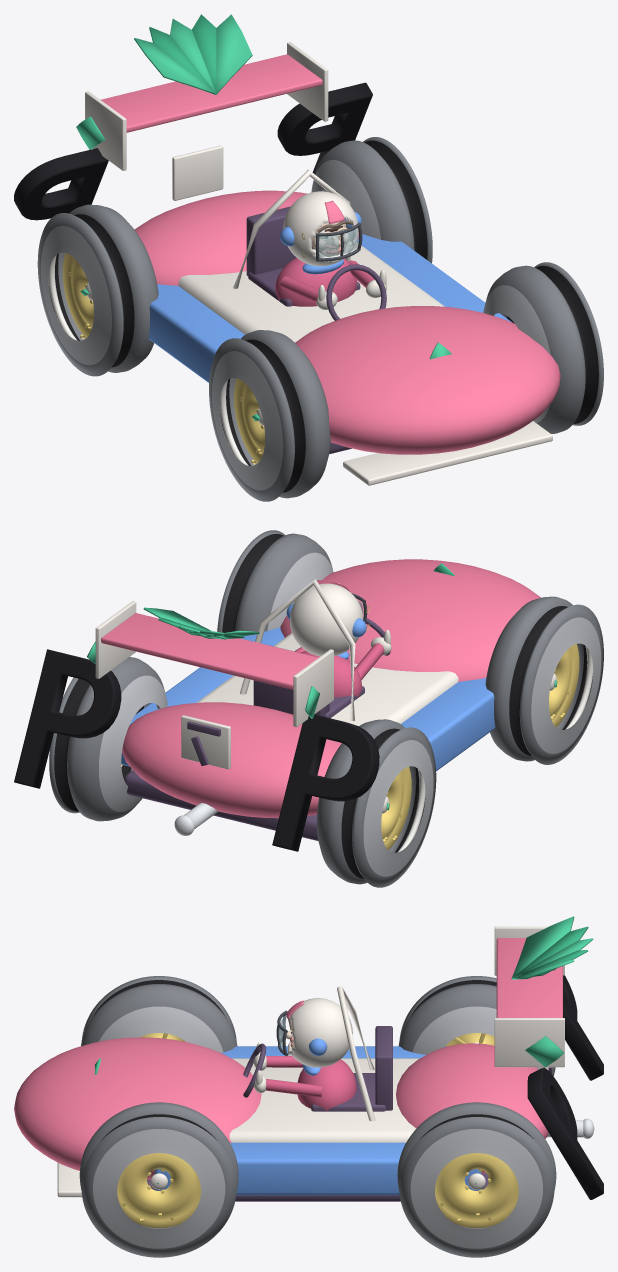
File: palm-dart.glb
3 views of the same model, one above another, from view 1: azimuth 30°, elevation 25°; view 2: azimuth 150°, elevation 25°; view 3: azimuth 270°, elevation 25° (orthographic). The views are drawn at different scales.
Parts seen in each view (by area): view 1: Nose, TireFL, TireRL, TireFR, Tail, TireRR, Tub, Wing, SidepodL, SidewallMarkRL, SidewallMarkRR, Splitter (+17 smaller); view 2: Nose, Tail, TireFL, TireRL, TireRR, TireFR, Wing, SidewallMarkRL, SidewallMarkRR, Tub, SidepodL, HelmetShell (+14 smaller); view 3: Nose, TireRR, TireFR, SidepodR, TireFL, Tub, Tail, TireRL, RimRR, RimFR, Wing, SidewallMarkRR (+17 smaller).
Part boxes in pixels (x1,y1,x2,y2): Nose: [295, 306, 560, 454]; TireFL: [209, 330, 330, 501]; TireRL: [37, 204, 158, 376]; TireFR: [483, 262, 603, 433]; Tail: [134, 190, 358, 285]; TireRR: [311, 137, 432, 263]; Tub: [178, 242, 444, 342]; Wing: [100, 54, 322, 132]; SidepodL: [148, 284, 244, 382]; SidewallMarkRL: [14, 148, 108, 220]; SidewallMarkRR: [277, 82, 372, 174]; Splitter: [343, 421, 552, 485]; Nose: [280, 559, 540, 681]; Tail: [122, 702, 341, 818]; TireFL: [485, 596, 603, 764]; TireRL: [316, 719, 436, 887]; TireRR: [49, 657, 167, 821]; TireFR: [217, 530, 333, 632]; Wing: [101, 613, 318, 689]; SidewallMarkRL: [272, 714, 379, 851]; SidewallMarkRR: [14, 649, 121, 788]; Tub: [196, 633, 458, 726]; SidepodL: [401, 678, 495, 771]; HelmetShell: [290, 583, 363, 656]; Nose: [14, 1037, 261, 1179]; TireRR: [397, 1102, 556, 1257]; TireFR: [79, 1102, 238, 1257]; SidepodR: [154, 1142, 481, 1195]; TireFL: [81, 976, 237, 1052]; Tub: [229, 1058, 419, 1142]; Tail: [396, 1043, 548, 1173]; TireRL: [398, 976, 555, 1075]; RimRR: [435, 1153, 518, 1228]; RimFR: [117, 1153, 200, 1228]; Wing: [496, 938, 562, 1017]; SidewallMarkRR: [527, 1068, 603, 1199].
Bounding box in the file's own units: 1.66 × 1.25 × 2.67.
